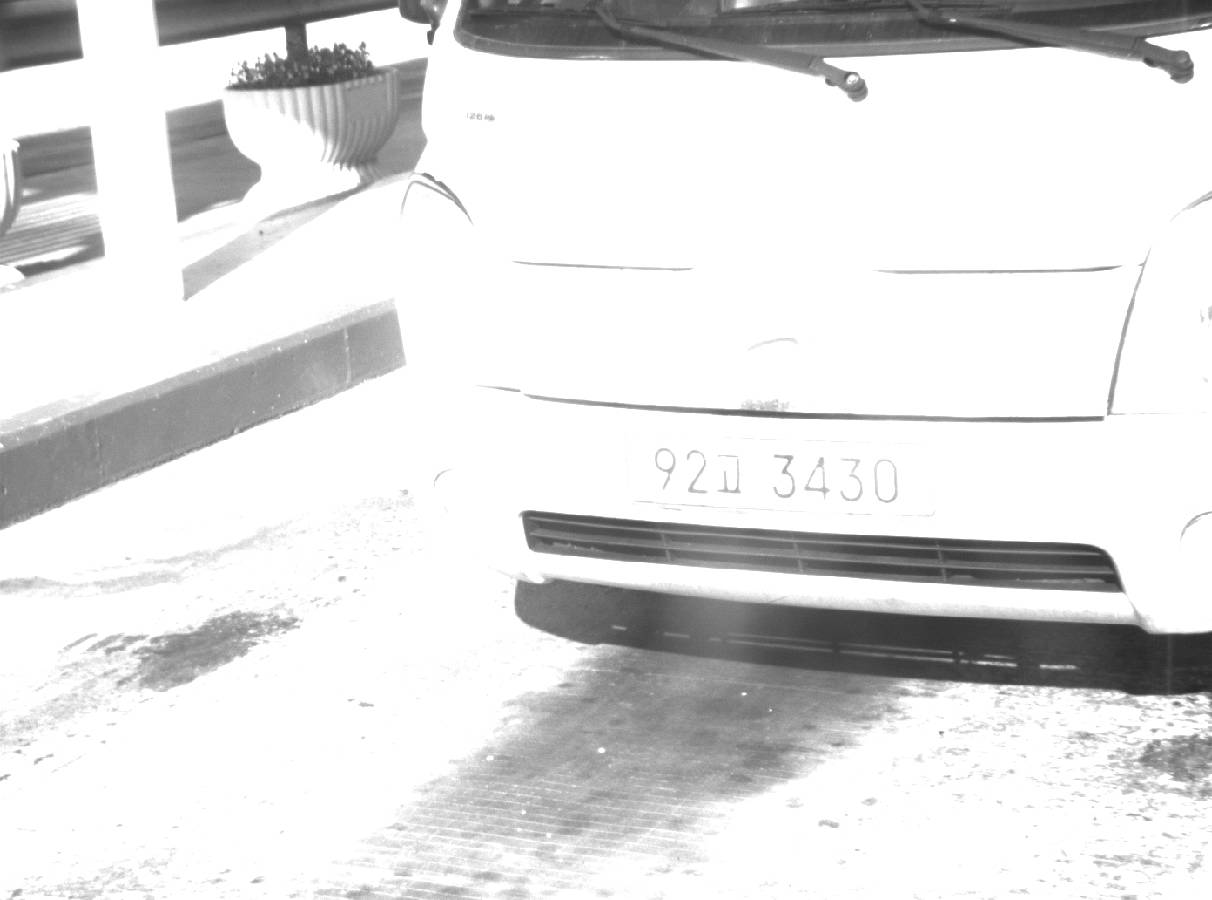car: (392, 4, 1212, 643)
plate: (627, 429, 941, 519)
